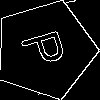P: (20, 24, 77, 70)
